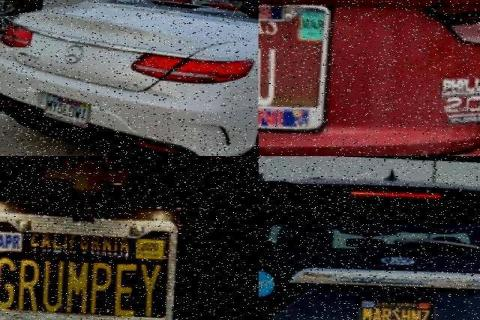LicensePlate: (0, 208, 178, 319), (257, 1, 327, 127), (354, 291, 435, 319), (40, 90, 92, 127)
